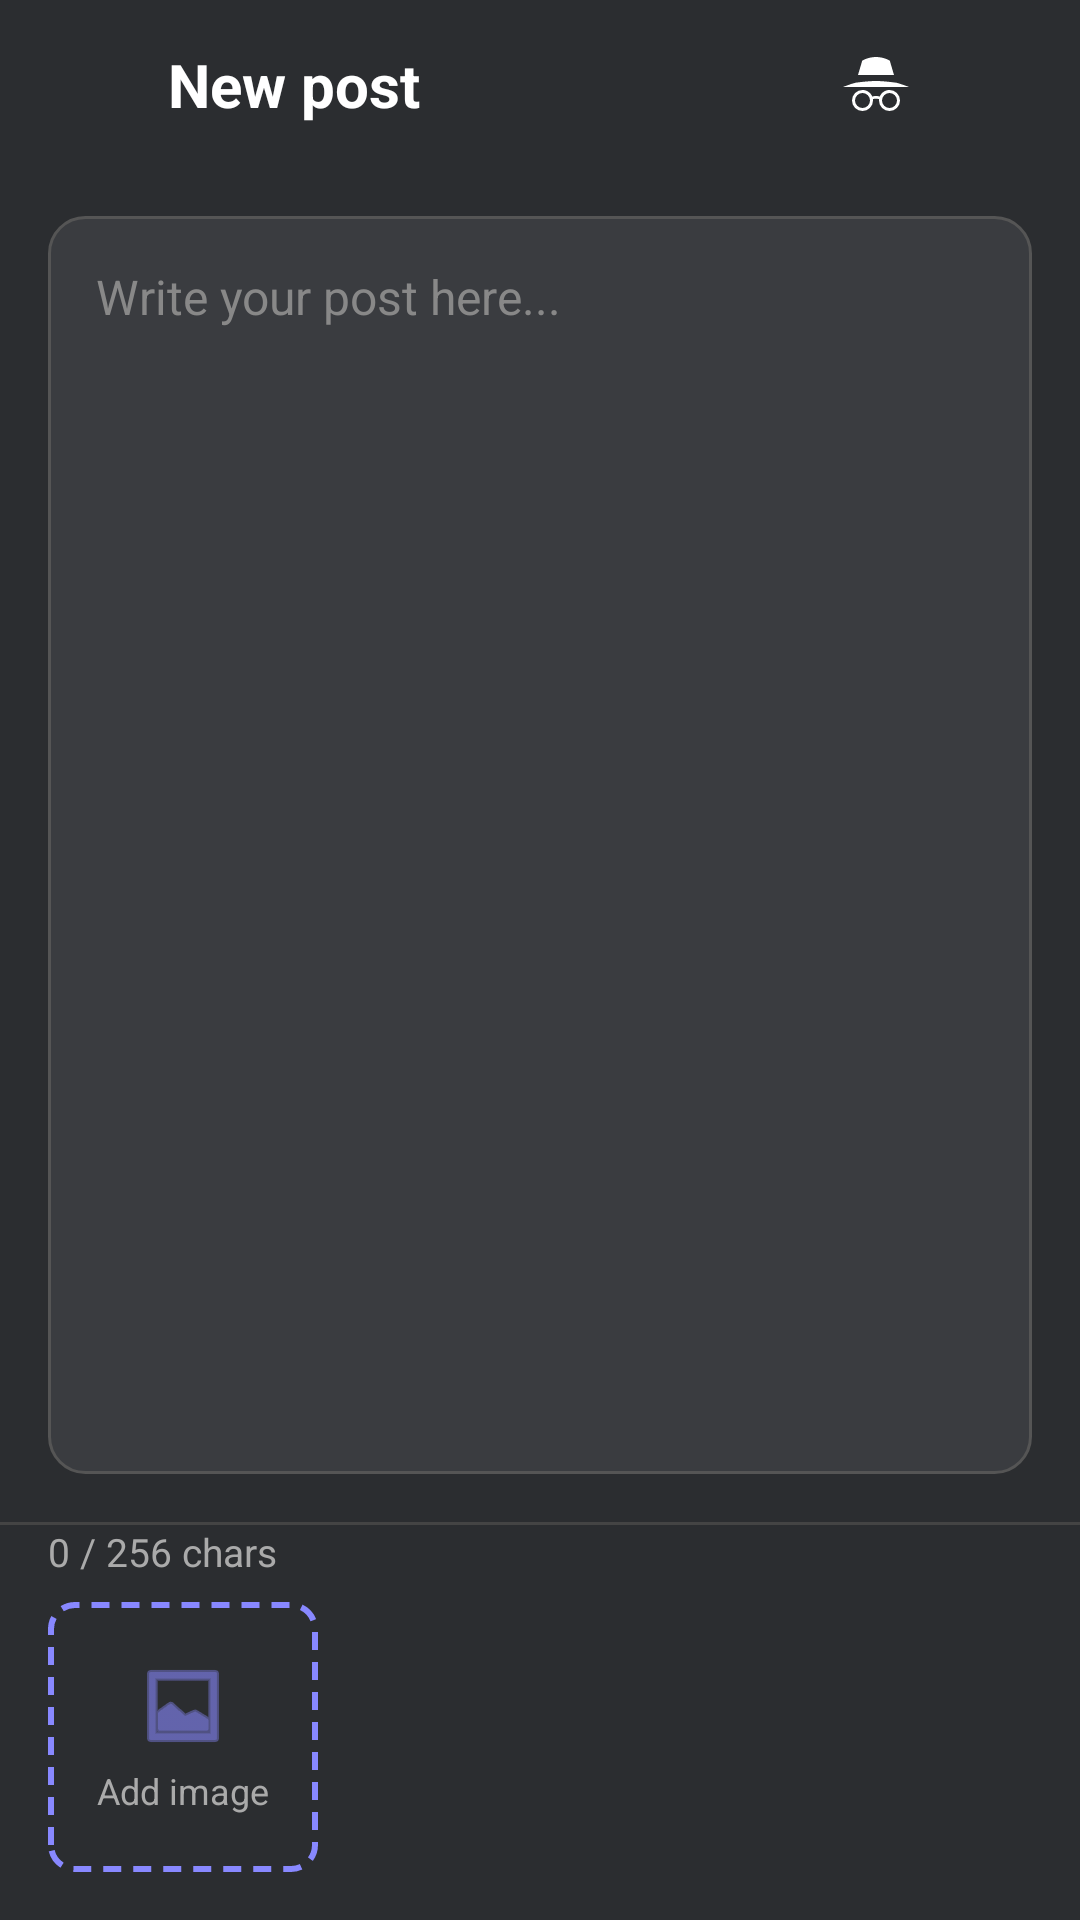

Screen size 1080w x 1920h. Icon name, then its center in pixels as [x,y]:
gallery: [183,1706]
Toggle anonymous: [876,84]
